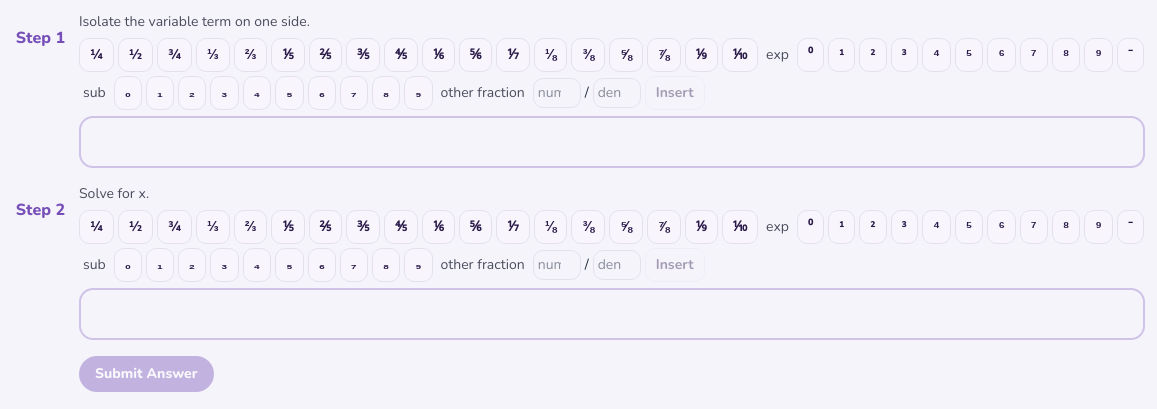
Test: MultiStepAnswerInput › inserts notation into one step without affecting the other
Click the button with test id "notation-fraction-½" below "Isolate the variable term on one side.": [136, 55] box [118,38,153,72]
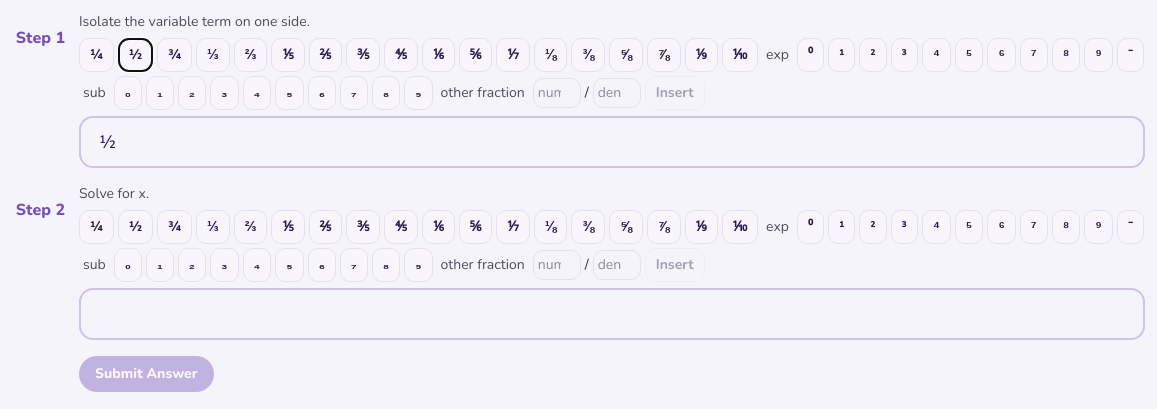
Expected: the field with test id "multi-step-input-1" is empty, [79,288,1145,340]
Expected: the field with test id "multi-step-input-0" holds "½", [79,116,1145,168]
